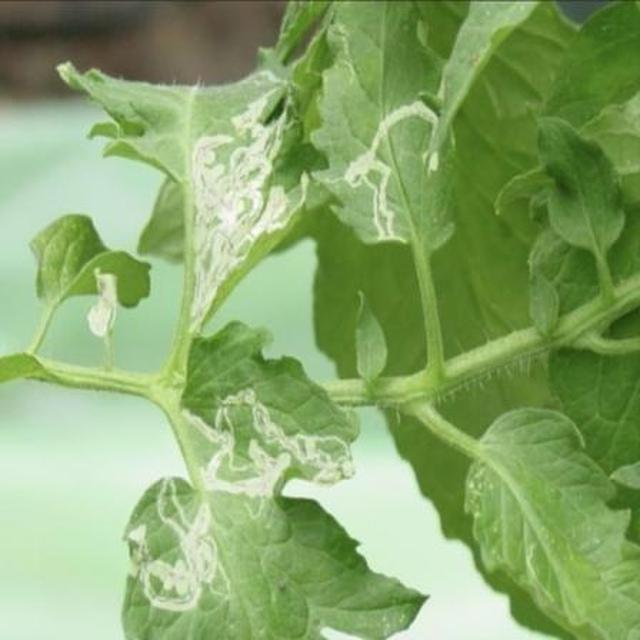Leaf Miner: (140, 177, 640, 640)
